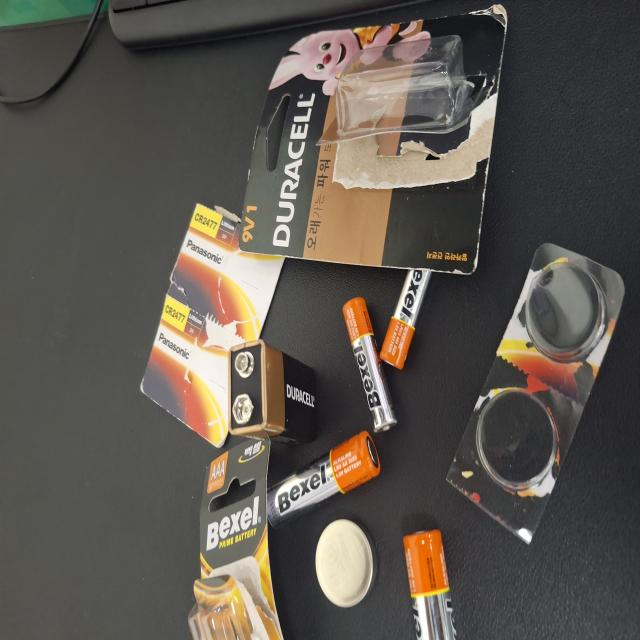9V: (148, 304, 225, 424)
AA: (84, 356, 157, 506), (0, 538, 83, 608)
AAA: (156, 458, 256, 530), (203, 506, 278, 575)
COIN: (25, 420, 90, 502)
